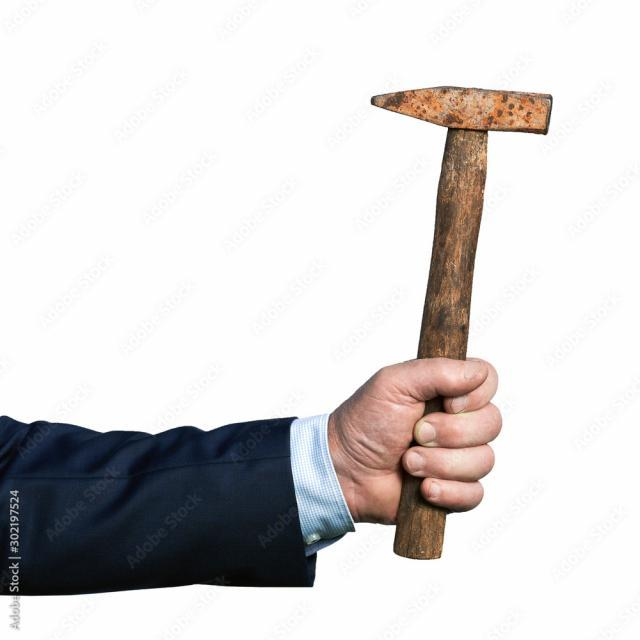hammer: (362, 71, 562, 572)
